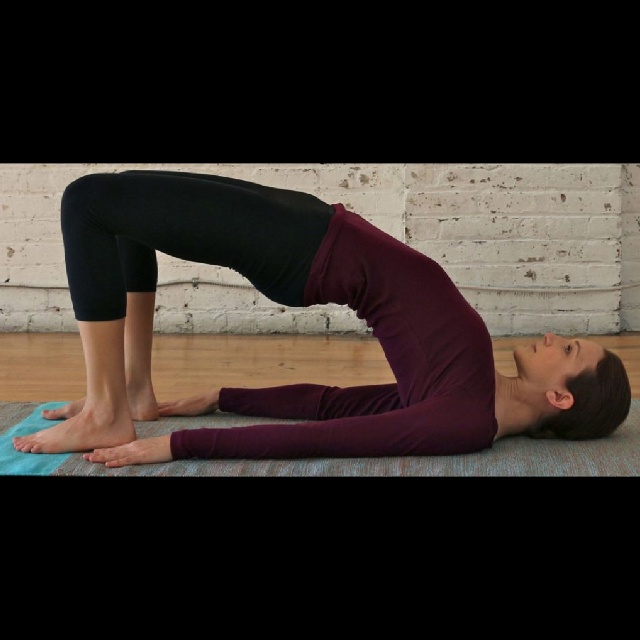Bridge_Pose: (11, 167, 639, 470)
